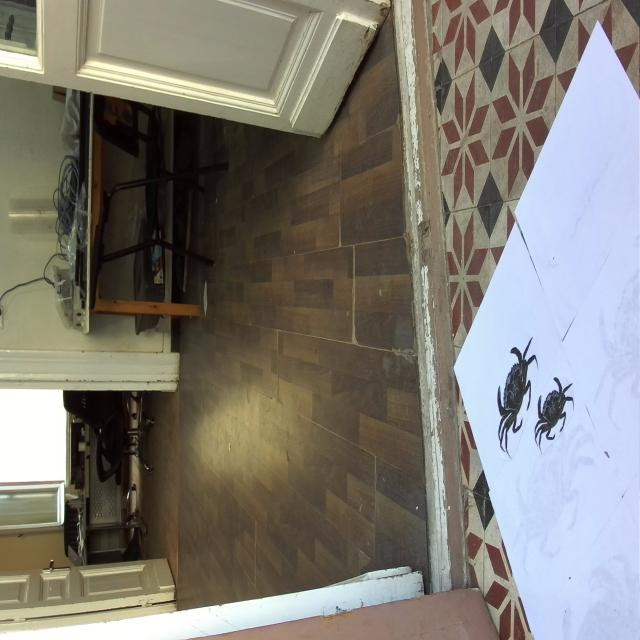European_Green_Crab: (484, 323, 548, 460), (525, 364, 582, 457)
